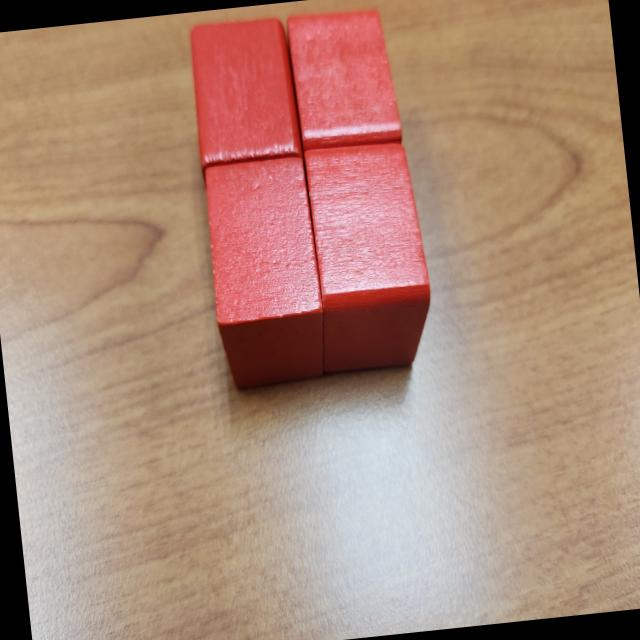red: (298, 136, 439, 376), (200, 153, 334, 395), (185, 12, 308, 183), (284, 3, 404, 154)
